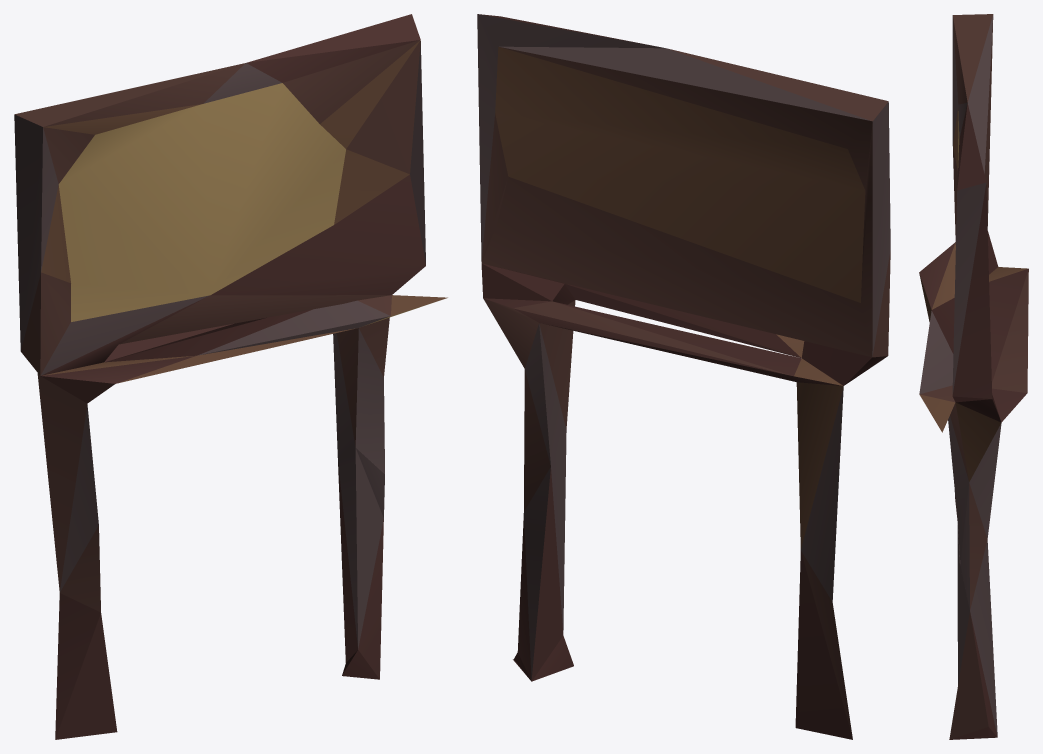
File: bg_desert_sign_1_lod2.glb
3 views of the same model, side by side, from view 1: azimuth 30°, elevation 25°; view 2: azimuth 150°, elevation 25°; view 3: azimuth 270°, elevation 25° (orthographic). The views are drawn at different scales.
Visible parts, largest first — view 1: body; view 2: body; view 3: body.
Part boxes in pixels (left/top/right/bottom): body: left=14, top=14, right=447, bottom=739; body: left=477, top=14, right=890, bottom=739; body: left=919, top=14, right=1028, bottom=739.
Size of the model in its own units: 1.97 by 2.96 by 0.5052.
